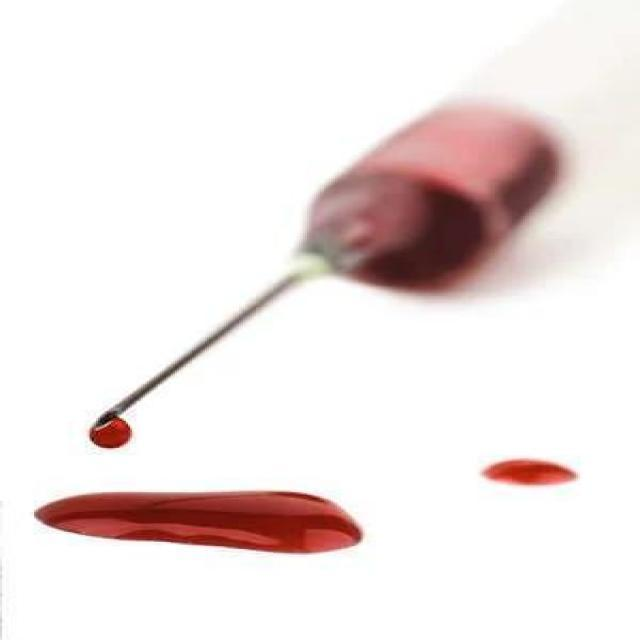flood: (32, 484, 363, 562)
